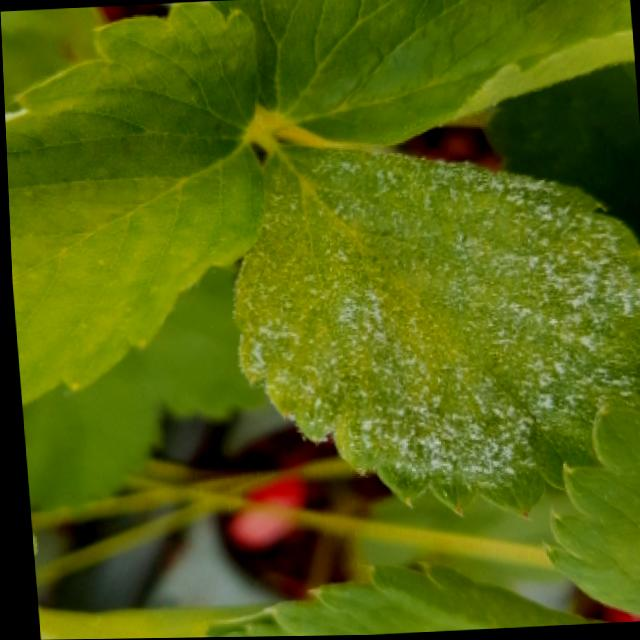Powdery Mildew Leaf: (226, 144, 640, 521)
